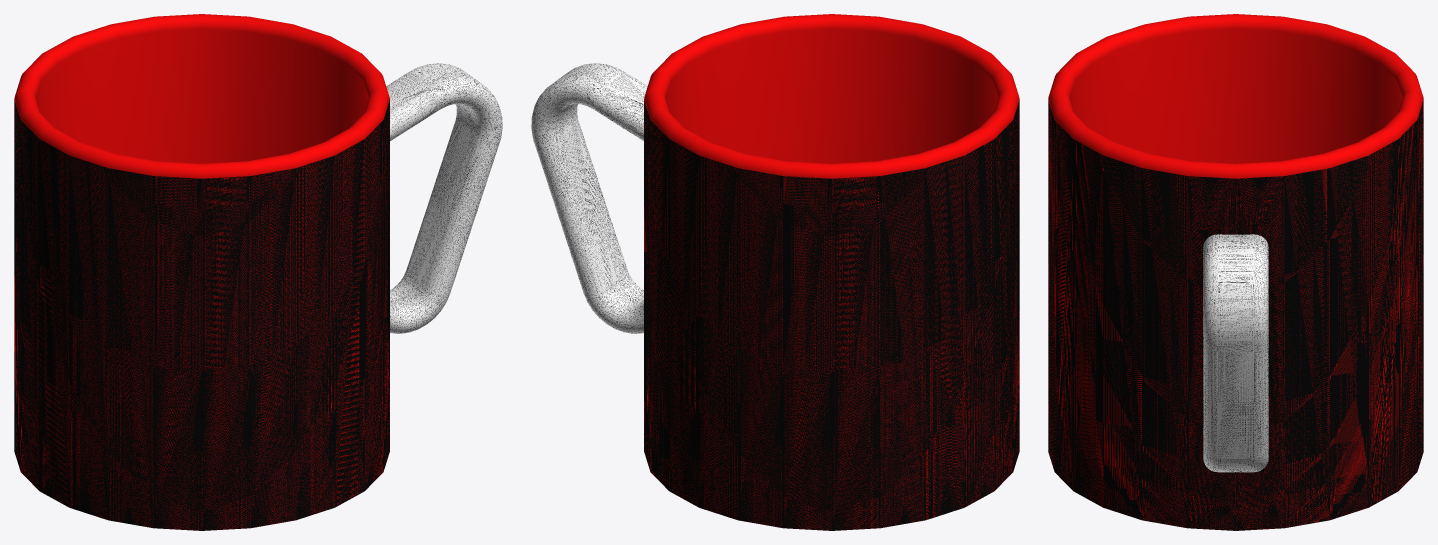
The model's file is mug_01_origin_gt_4.dae.
3 renders of one model, left to right at view 1: azimuth 30°, elevation 25°; view 2: azimuth 150°, elevation 25°; view 3: azimuth 270°, elevation 25°, orthographic.
Visible parts, largest first — view 1: SketchUp (×3); view 2: SketchUp (×3); view 3: SketchUp (×3).
Part boxes in pixels (x1,y1,x2,y2): SketchUp (×3): [14, 14, 502, 530]; SketchUp (×3): [531, 14, 1019, 530]; SketchUp (×3): [1048, 14, 1423, 530].
Size of the model in its own units: 71.99 by 51.8 by 55.05.
